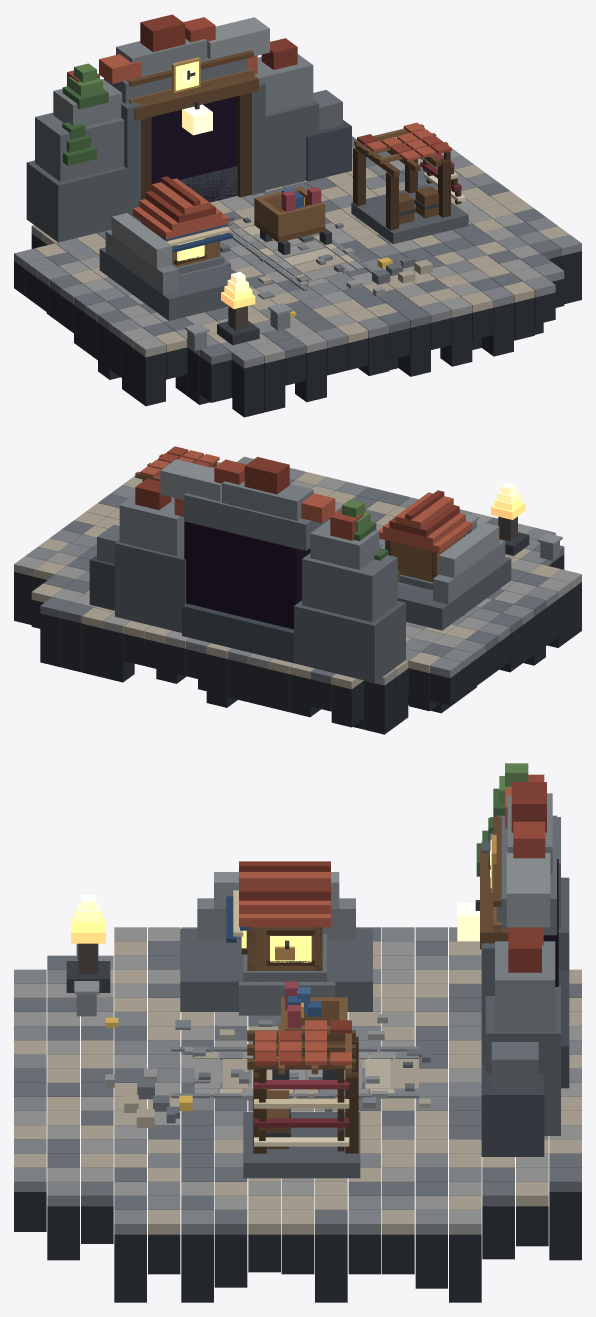
The model's file is preview-city-market.glb.
3 views of the same model, one above another, from view 1: azimuth 30°, elevation 25°; view 2: azimuth 150°, elevation 25°; view 3: azimuth 270°, elevation 25° (orthographic). The views are drawn at different scales.
Visible parts, largest first — view 1: Terrain, Preview_Clock_Gate, Floating_Bedrock, Preview_Terrace, Preview_Archway, Preview_Archway_Timber, Preview_Street_Paving, Minecart, Preview_Shopfront_Roof, Preview_Bakery, Preview_Bakery_Roof, Preview_Bakery_Base (+9 smaller); view 2: Preview_Clock_Gate, Floating_Bedrock, Terrain, Preview_Archway, Preview_Terrace, Preview_Shopfront_Roof, Preview_Shopfront, Preview_Bakery_Roof, Flame, Brazier, Preview_Bollards; view 3: Terrain, Floating_Bedrock, Preview_Clock_Gate, Preview_Terrace, Preview_Shopfront_Roof, Preview_Street_Paving, Preview_Bakery_Base, Preview_Bakery_Roof, Preview_Shopfront, Preview_Bakery_Awning, Minecart, Surface_Chips (+8 smaller).
Boxes of the visible parts, bbox=[...] form: Terrain: bbox=[14, 136, 581, 368]; Preview_Clock_Gate: bbox=[26, 14, 351, 242]; Floating_Bedrock: bbox=[14, 233, 581, 417]; Preview_Terrace: bbox=[99, 213, 246, 320]; Preview_Archway: bbox=[151, 96, 237, 202]; Preview_Archway_Timber: bbox=[127, 50, 258, 221]; Preview_Street_Paving: bbox=[220, 216, 375, 291]; Minecart: bbox=[254, 186, 331, 254]; Preview_Shopfront_Roof: bbox=[133, 176, 228, 238]; Preview_Bakery: bbox=[353, 148, 450, 230]; Preview_Bakery_Roof: bbox=[354, 122, 451, 177]; Preview_Bakery_Base: bbox=[351, 184, 468, 244]; Preview_Clock_Gate: bbox=[89, 457, 405, 682]; Floating_Bedrock: bbox=[14, 554, 581, 734]; Terrain: bbox=[14, 456, 581, 689]; Preview_Archway: bbox=[184, 521, 310, 629]; Preview_Terrace: bbox=[397, 522, 511, 630]; Preview_Shopfront_Roof: bbox=[378, 490, 472, 552]; Preview_Shopfront: bbox=[385, 529, 471, 590]; Preview_Bakery_Roof: bbox=[135, 446, 219, 481]; Flame: bbox=[491, 482, 525, 519]; Brazier: bbox=[498, 516, 529, 555]; Preview_Bollards: bbox=[463, 513, 562, 560]; Terrain: bbox=[14, 927, 581, 1234]; Floating_Bedrock: bbox=[14, 1192, 581, 1302]; Preview_Clock_Gate: bbox=[476, 763, 569, 1156]; Preview_Terrace: bbox=[180, 872, 372, 1015]; Preview_Shopfront_Roof: bbox=[239, 861, 330, 927]; Preview_Street_Paving: bbox=[171, 1046, 418, 1098]; Preview_Bakery_Base: bbox=[243, 1112, 360, 1178]; Preview_Bakery_Roof: bbox=[247, 1020, 355, 1074]; Preview_Shopfront: bbox=[226, 890, 326, 981]; Preview_Bakery_Awning: bbox=[254, 1065, 349, 1151]; Minecart: bbox=[272, 981, 347, 1079]; Surface_Chips: bbox=[175, 1014, 430, 1111].
Bounding box in the file's own units: 8.39 × 4.3 × 6.79.
